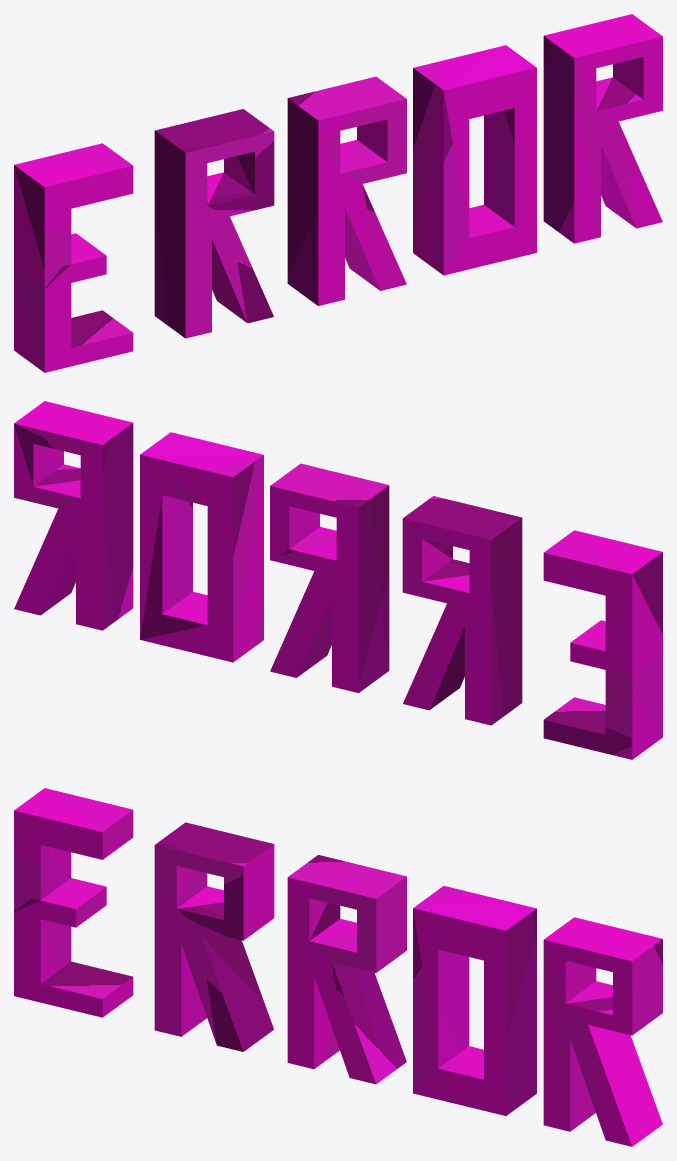
File: ERROR.obj
3 views of the same model, one above another, from view 1: azimuth 30°, elevation 25°; view 2: azimuth 150°, elevation 25°; view 3: azimuth 330°, elevation 25° (orthographic).
Parts seen in each view (by area): view 1: ERROR_1; view 2: ERROR_1; view 3: ERROR_1.
Part boxes in pixels (x1=…): ERROR_1: x1=14, y1=14, x2=662, y2=372; ERROR_1: x1=14, y1=401, x2=662, y2=759; ERROR_1: x1=14, y1=788, x2=662, y2=1146.
Bounding box in the file's own units: 1.96 × 0.5611 × 0.1683.
